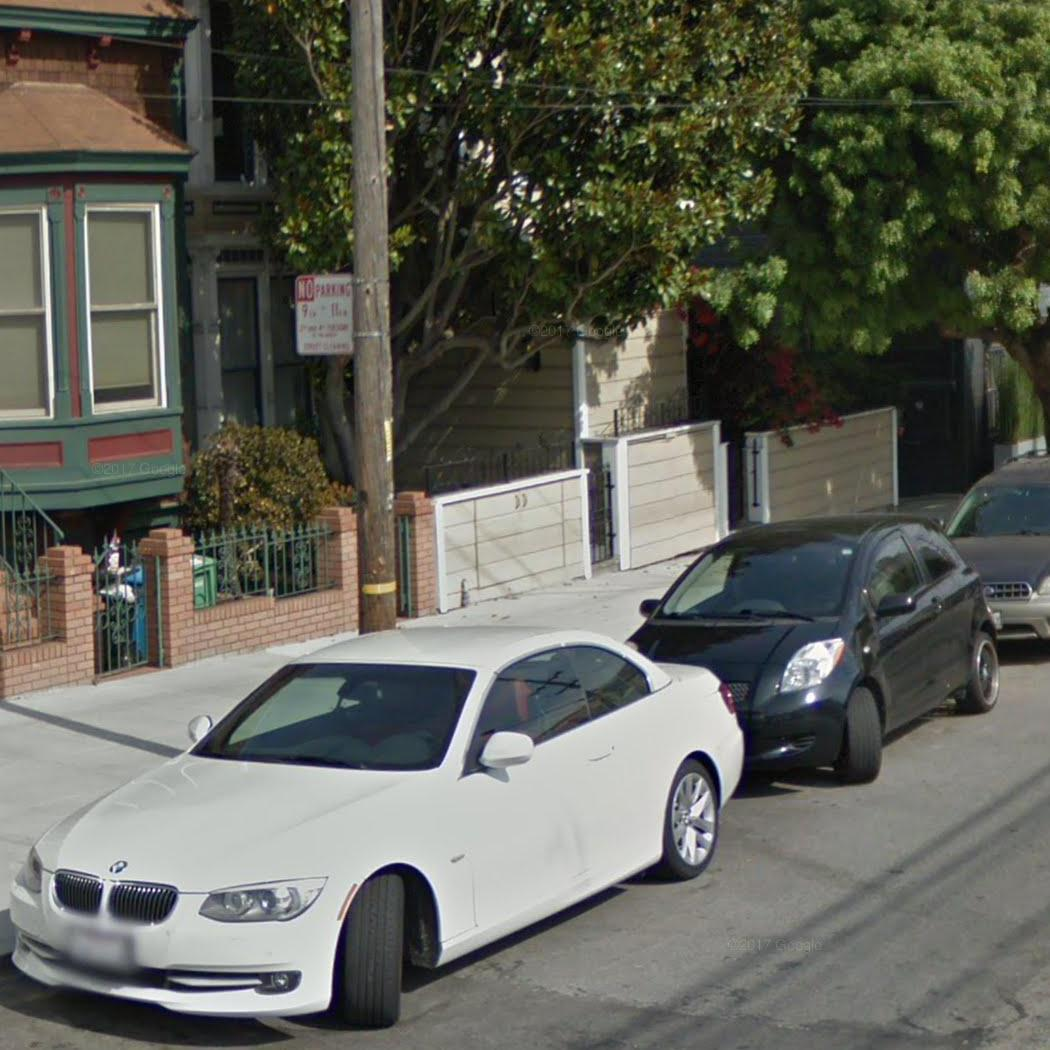No Parking: (294, 272, 358, 357)
